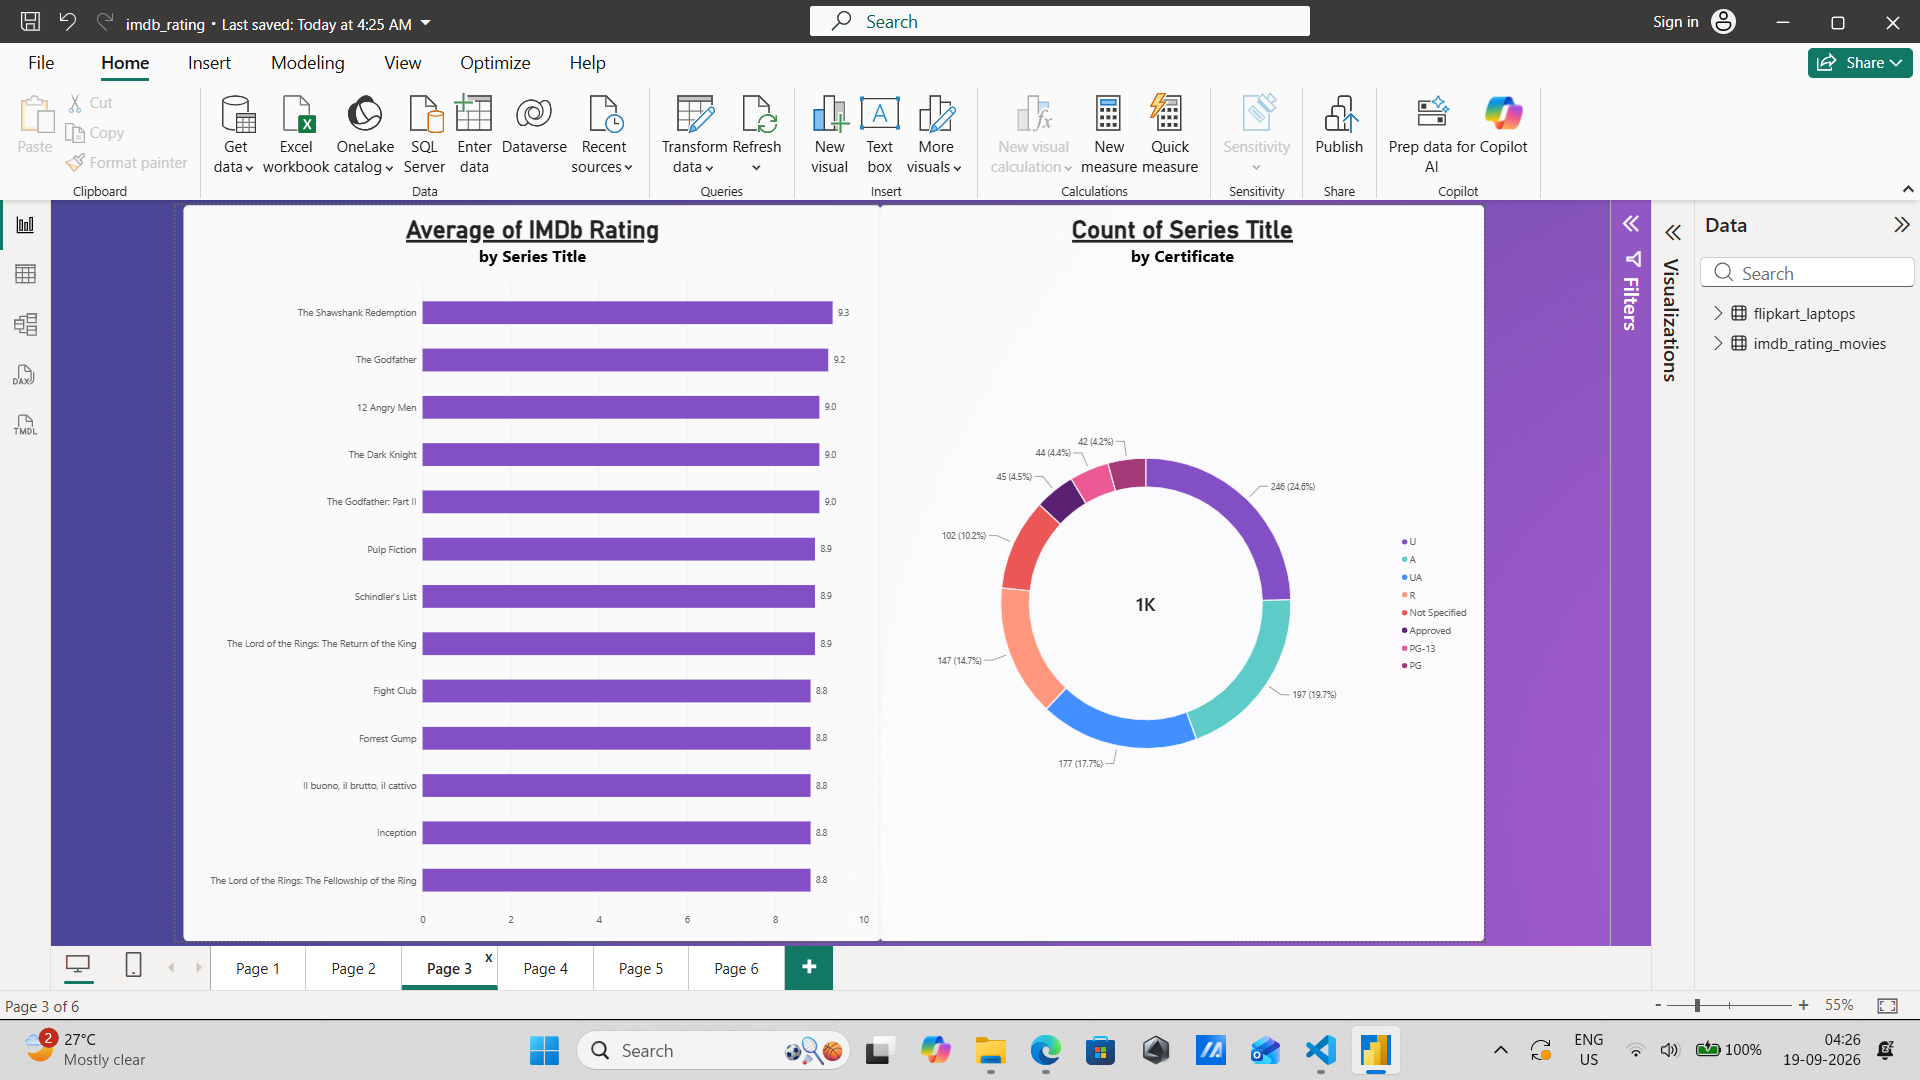

Layout of this report page (visuals, bound fields, positions):
{"tool":"powerbi","page":{"name":"Page 3","canvas":[1920,1080],"ordinal":2},"visuals":[{"type":"clusteredBarChart","fields":{"Category":["imdb_top_1000_movies_20260911_205646 (2).Series Title"],"Y":["Avg(imdb_top_1000_movies_20260911_205646 (2).IMDb Rating)"]},"box":[10.3,0,1023,1080.6],"z":0},{"type":"donutChart","fields":{"Category":["imdb_top_1000_movies_20260911_205646 (2).Certificate"],"Y":["CountNonNull(imdb_top_1000_movies_20260911_205646 (2).Series Title)"]},"box":[1033.3,0,887.1,1080.6],"z":1}]}

Visuals, with their boxes on the page's 1920x1080 design canvas (x1, y1, x2, y2). These are canvas units, not pixel positions in the 1920x1080 screenshot, which may show the page scaled, cropped or inside an application window:
clusteredBarChart - imdb_top_1000_movies_20260911_205646 (2).Series Title x Avg(imdb_top_1000_movies_20260911_205646 (2).IMDb Rating): (10,0,1033,1081)
donutChart - imdb_top_1000_movies_20260911_205646 (2).Certificate x CountNonNull(imdb_top_1000_movies_20260911_205646 (2).Series Title): (1033,0,1920,1081)
